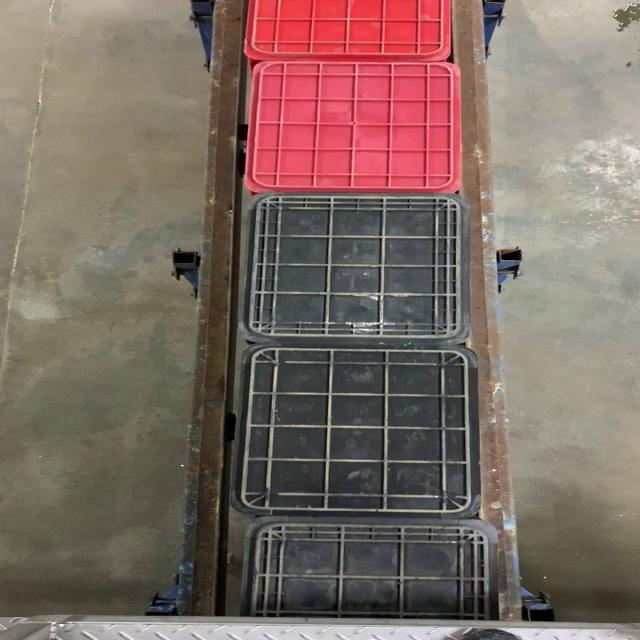Box: (229, 346, 483, 518), (242, 195, 469, 343), (244, 60, 462, 196)
